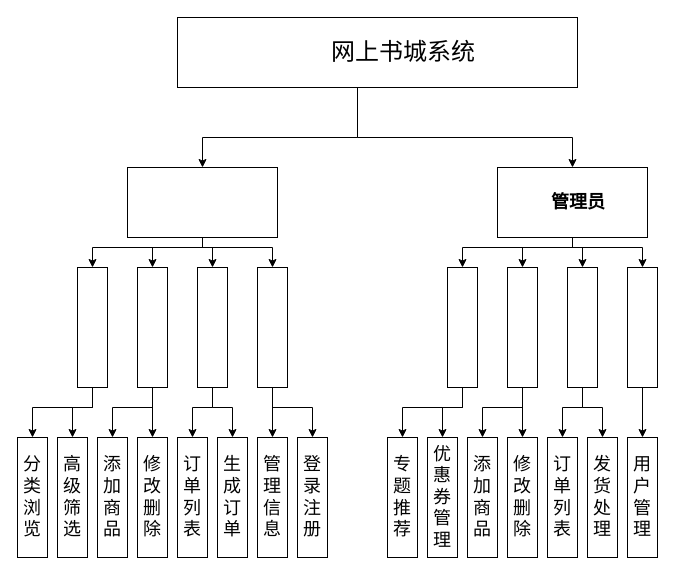
This 675x575 diagram has some shape labels left out. Each missing label, with the centre of its shape:
"商品管理" belongs at (522,327).
"图书浏览" belongs at (92,327).
"权限管理" belongs at (642,327).
"用户" belongs at (202,202).
"用户模块" belongs at (272,327).
"营销管理" belongs at (462,327).
"订单" belongs at (212,327).
"订单管理" belongs at (582,327).
"购物车" belongs at (152,327).
